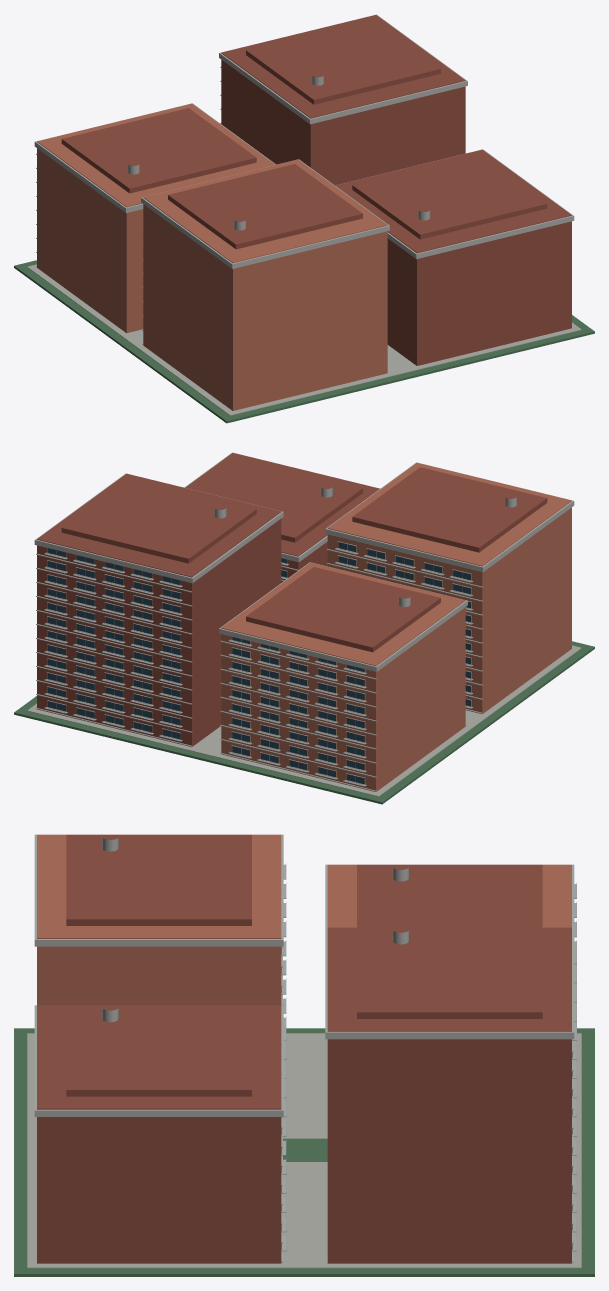
Rendered from bogota-brick-midrise-block.glb.
The picture shows the model from 3 angles, top to bottom: view 1: azimuth 30°, elevation 25°; view 2: azimuth 150°, elevation 25°; view 3: azimuth 270°, elevation 25°; orthographic projection. The views are drawn at different scales.
Parts seen in each view (by area): view 1: bogota-brick-midrise-block; view 2: bogota-brick-midrise-block; view 3: bogota-brick-midrise-block.
Boxes of the visible parts, box(x1,y1,x2,y2) form: bogota-brick-midrise-block: box(14, 14, 594, 423); bogota-brick-midrise-block: box(14, 452, 594, 804); bogota-brick-midrise-block: box(14, 834, 594, 1276).
Bounding box in the file's own units: 88 × 42.98 × 88.
